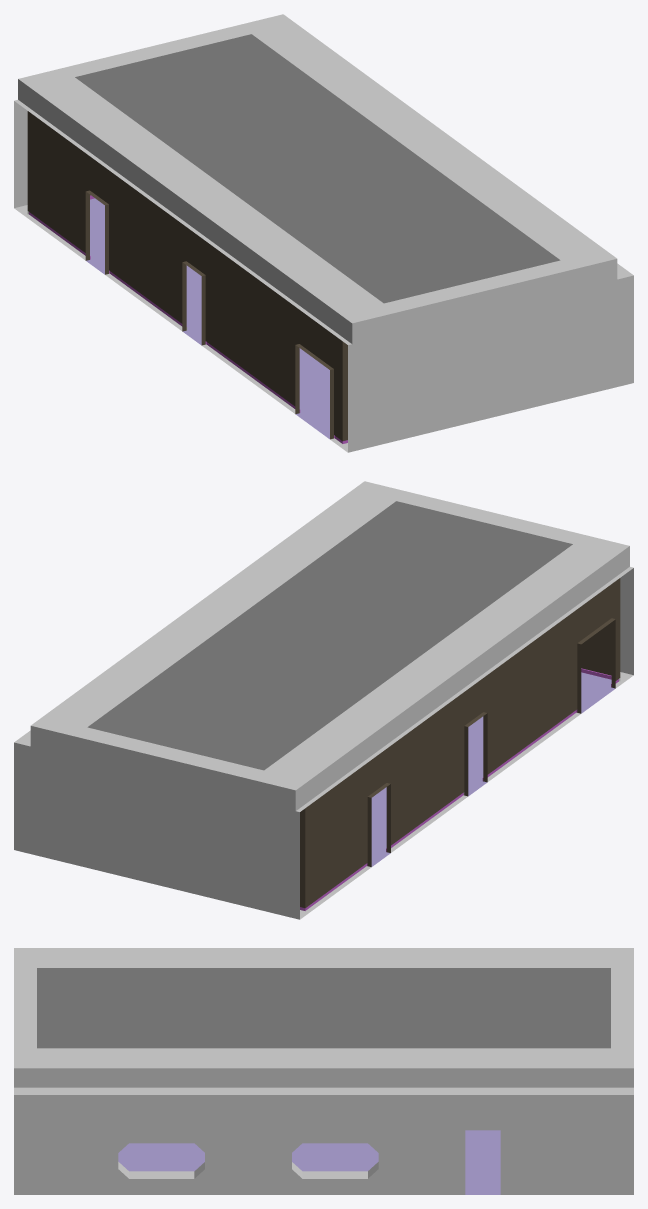
File: SalonPrincipal.fbx
3 views of the same model, one above another, from view 1: azimuth 30°, elevation 25°; view 2: azimuth 150°, elevation 25°; view 3: azimuth 270°, elevation 25° (orthographic). The views are drawn at different scales.
Parts seen in each view (by area): view 1: SalaPrincipal; view 2: SalaPrincipal; view 3: SalaPrincipal.
Boxes of the visible parts, left/top/right/bottom form: SalaPrincipal: left=14, top=14, right=633, bottom=452; SalaPrincipal: left=14, top=481, right=633, bottom=919; SalaPrincipal: left=14, top=948, right=633, bottom=1194.
Size of the model in its own units: 862 by 370 by 1745.
